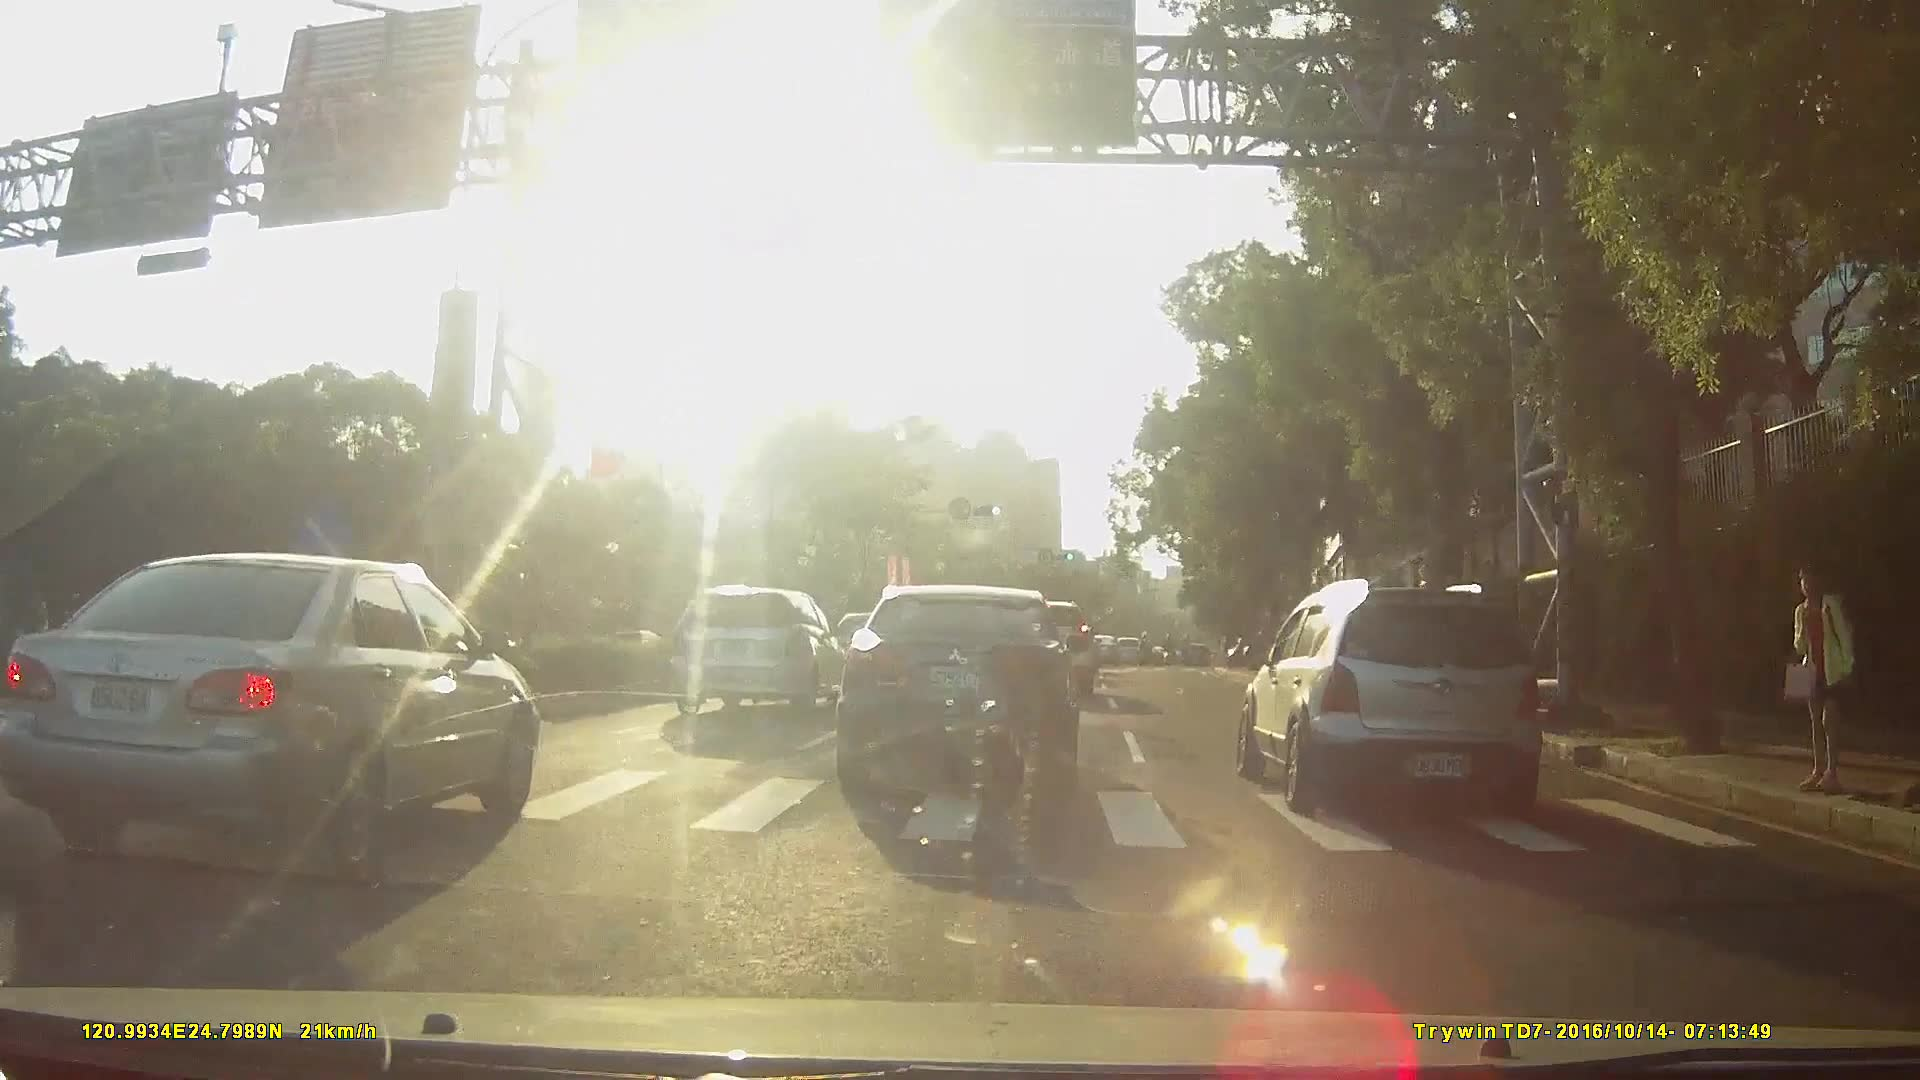pedestrian: (1783, 557, 1865, 794)
vehicle: (1, 544, 555, 890), (1219, 571, 1570, 827), (842, 592, 1097, 802), (658, 583, 844, 715), (1082, 631, 1117, 665), (1106, 632, 1141, 663)
